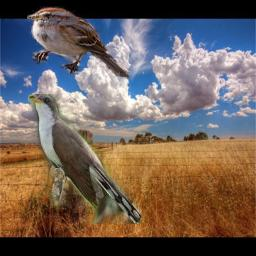Cuckoo: (29, 94, 142, 224)
Sparrow: (27, 6, 130, 85)
